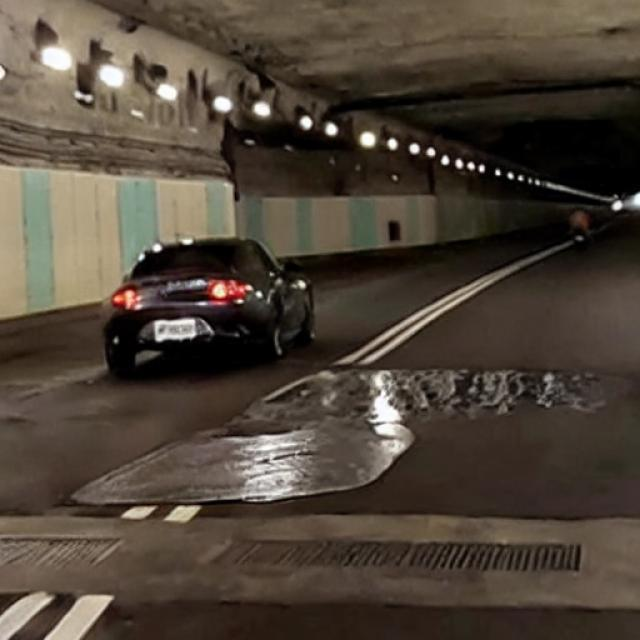puddle: (74, 366, 601, 503)
